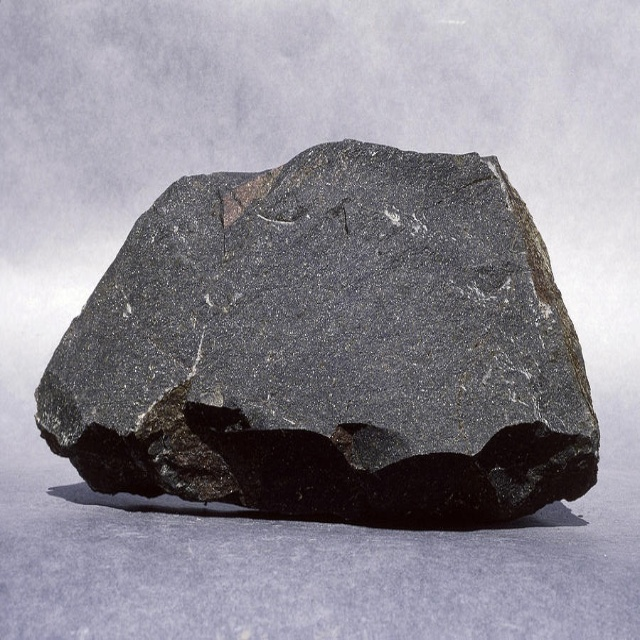obstacle: (36, 140, 599, 522)
